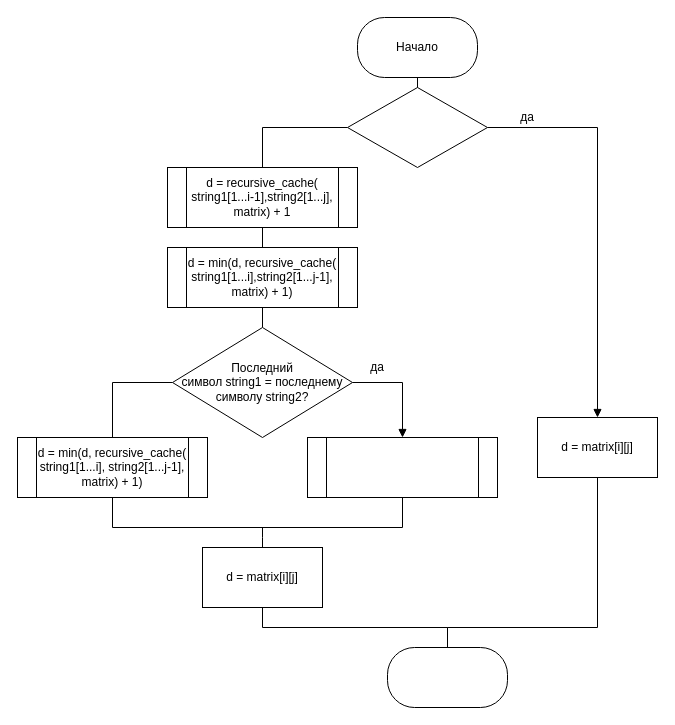
Some shapes in this 675 by 725 pixel diagram are drawn without their labels. The shapes that lost their labels are listed below. From the top down, each one's centre as x and y in pixels, then its label:
At pixel 417 127: "matrix[i][j] != -1?".
At pixel 402 467: "d = min(d, recursive_cache( string1[1...i-1], string2[1...j-1], matrix) + 1)".
At pixel 447 677: "Конец".
